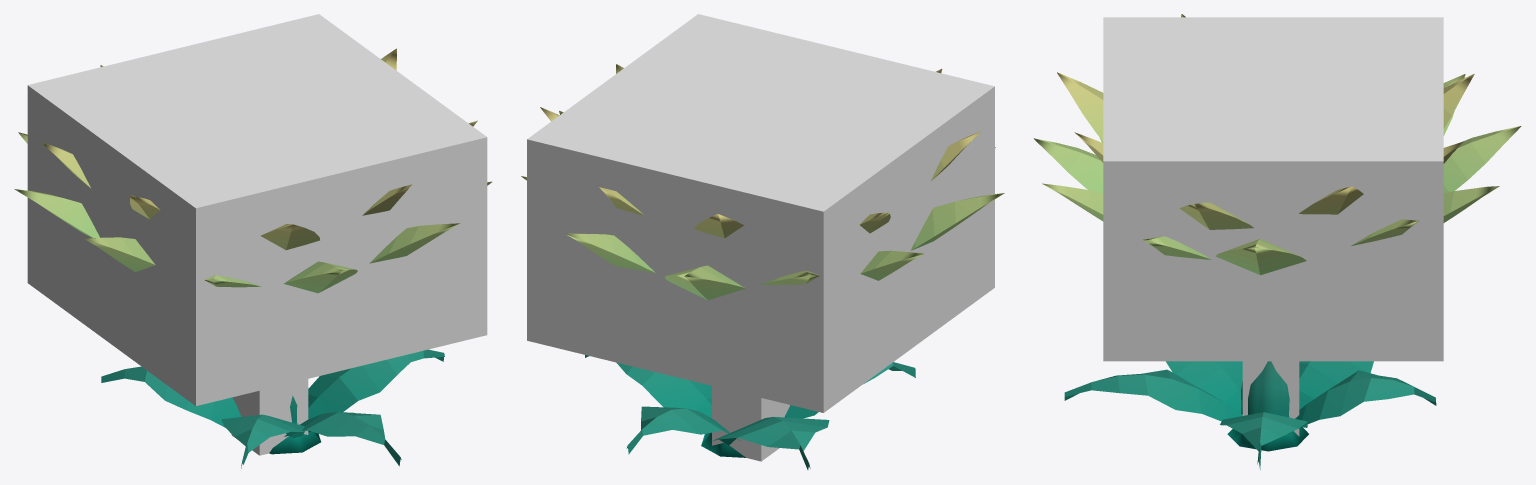
Rendered from Plant_Collector_04.fbx.
3 views of the same model, side by side, from view 1: azimuth 30°, elevation 25°; view 2: azimuth 150°, elevation 25°; view 3: azimuth 270°, elevation 25° (orthographic).
Parts seen in each view (by area): view 1: INTERACT_04, Plant_Collector_04, COL_04_0; view 2: INTERACT_04, Plant_Collector_04, COL_04_0; view 3: INTERACT_04, Plant_Collector_04, COL_04_0.
Part boxes in pixels (x1,y1,x2,y2): INTERACT_04: (27,14,487,405); Plant_Collector_04: (14,48,492,468); COL_04_0: (231,379,308,455); INTERACT_04: (527,14,994,412); Plant_Collector_04: (521,64,1004,469); COL_04_0: (712,386,789,461); INTERACT_04: (1103,17,1443,361); Plant_Collector_04: (1033,14,1521,469); COL_04_0: (1242,361,1299,436).
Size of the model in its own units: 3.41 by 2.6 by 3.44.
